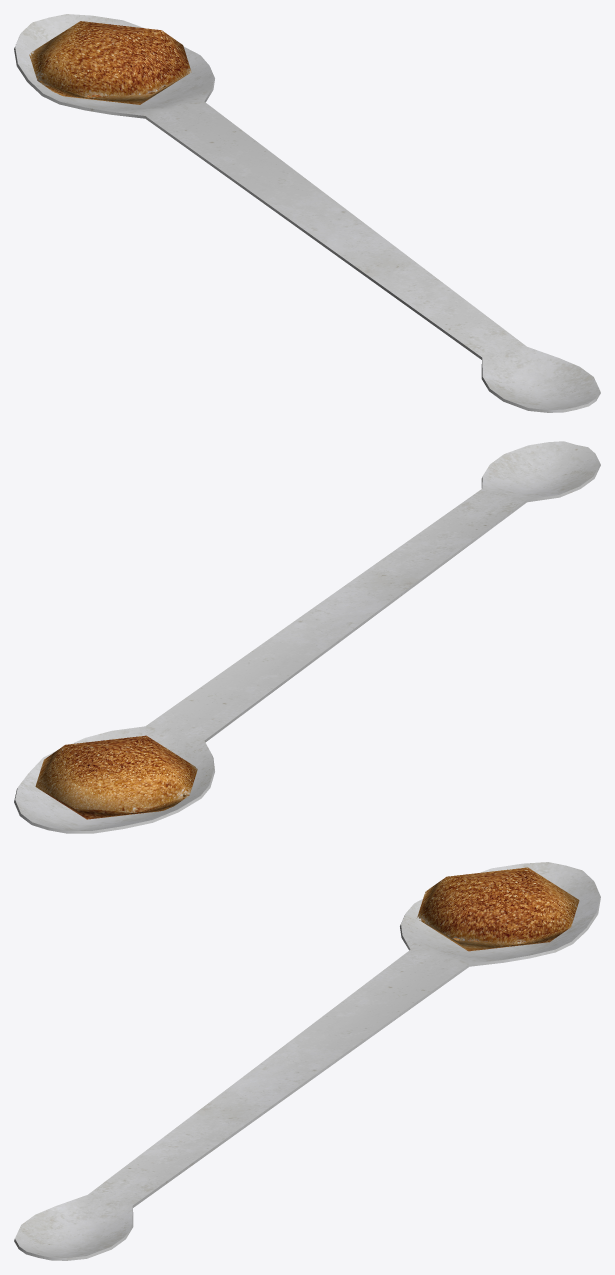
3 renders of one model, top to bottom at view 1: azimuth 30°, elevation 25°; view 2: azimuth 150°, elevation 25°; view 3: azimuth 330°, elevation 25°, orthographic.
Parts seen in each view (by area): view 1: SM_勺子_01, SM_硬糖样品; view 2: SM_勺子_01, SM_硬糖样品; view 3: SM_勺子_01, SM_硬糖样品.
Boxes of the visible parts, x1,y1,x2,y2 form: SM_勺子_01: (14,14,600,412); SM_硬糖样品: (29,21,191,104); SM_勺子_01: (14,441,600,833); SM_硬糖样品: (35,735,197,819); SM_勺子_01: (14,862,600,1260); SM_硬糖样品: (417,867,579,951).
Bounding box in the file's own units: 0.0211 × 0.00769 × 0.121.
